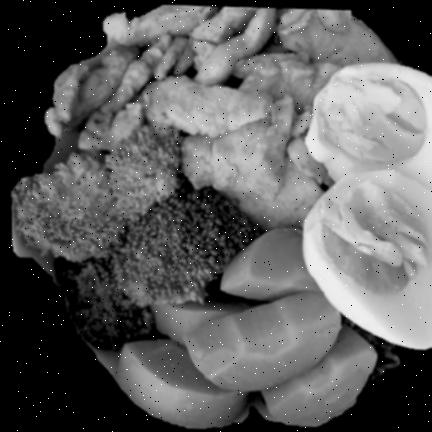broccoli: (9, 120, 263, 350)
carrot: (117, 229, 378, 429)
chicken: (46, 5, 400, 229)
egg: (303, 62, 432, 345)
